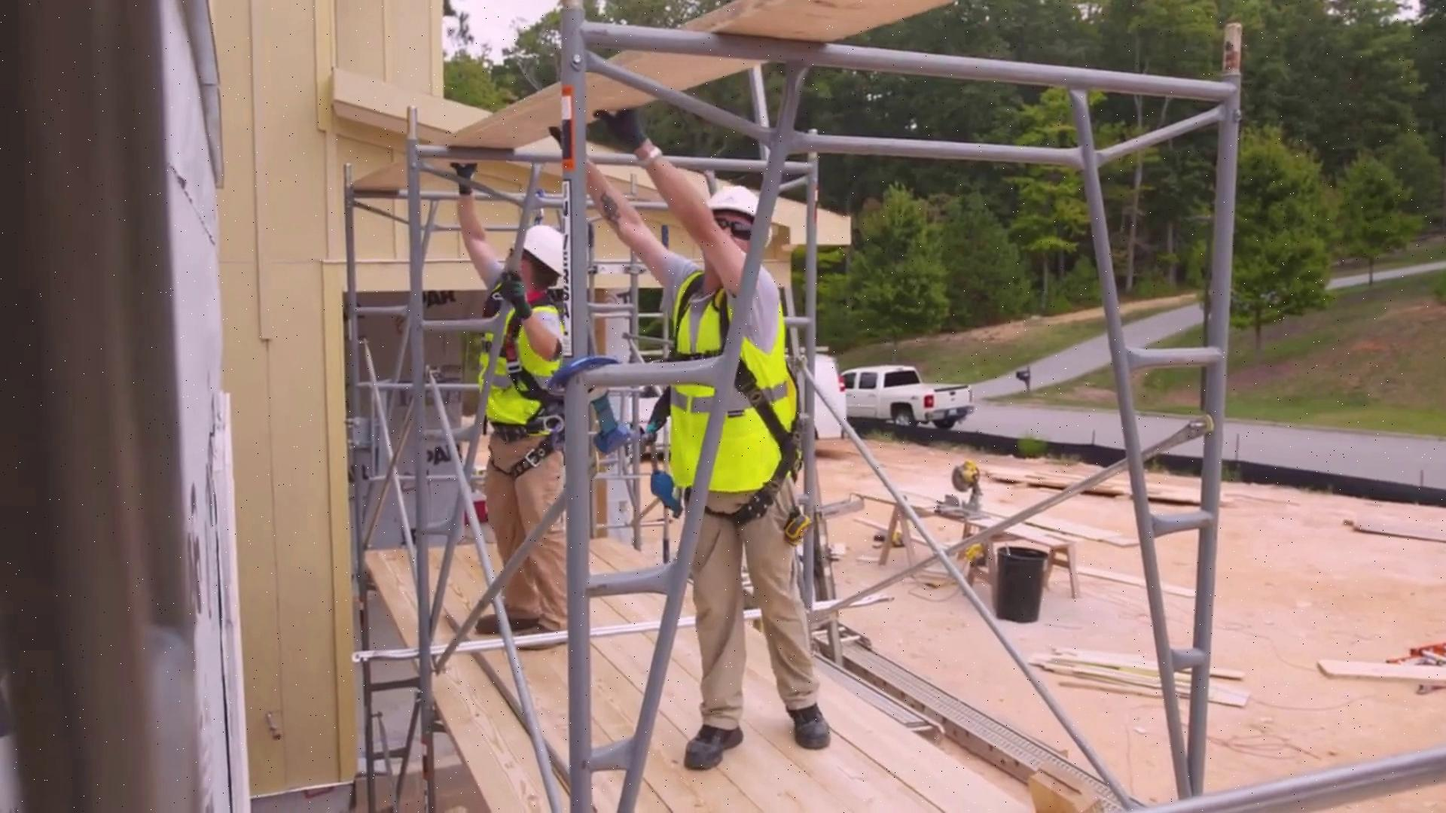Hard_hat: (516, 217, 580, 279), (701, 182, 773, 226)
Vest: (656, 283, 797, 494), (475, 303, 574, 431)
